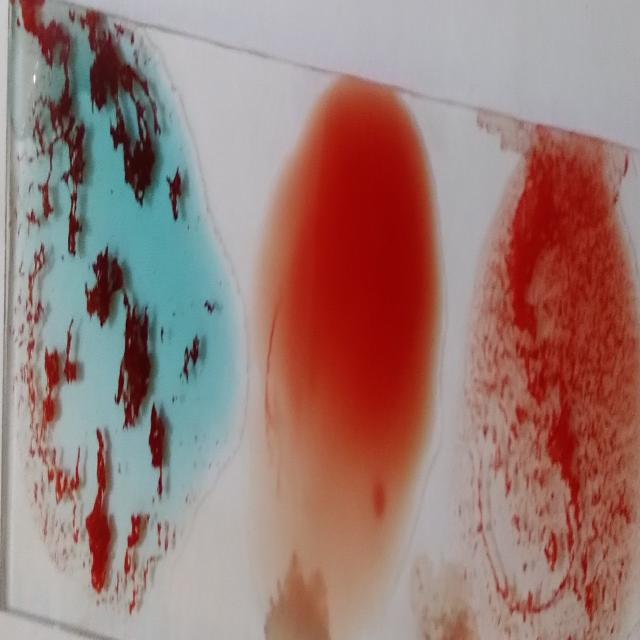A: (27, 22, 205, 580)
D: (476, 140, 636, 626)
